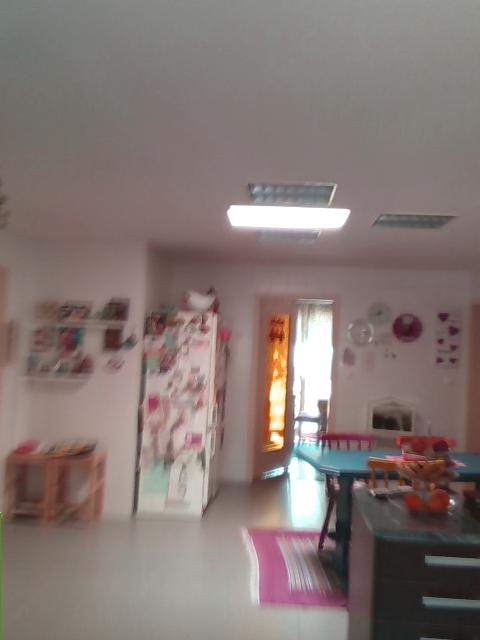semi_door: (244, 287, 342, 491)
